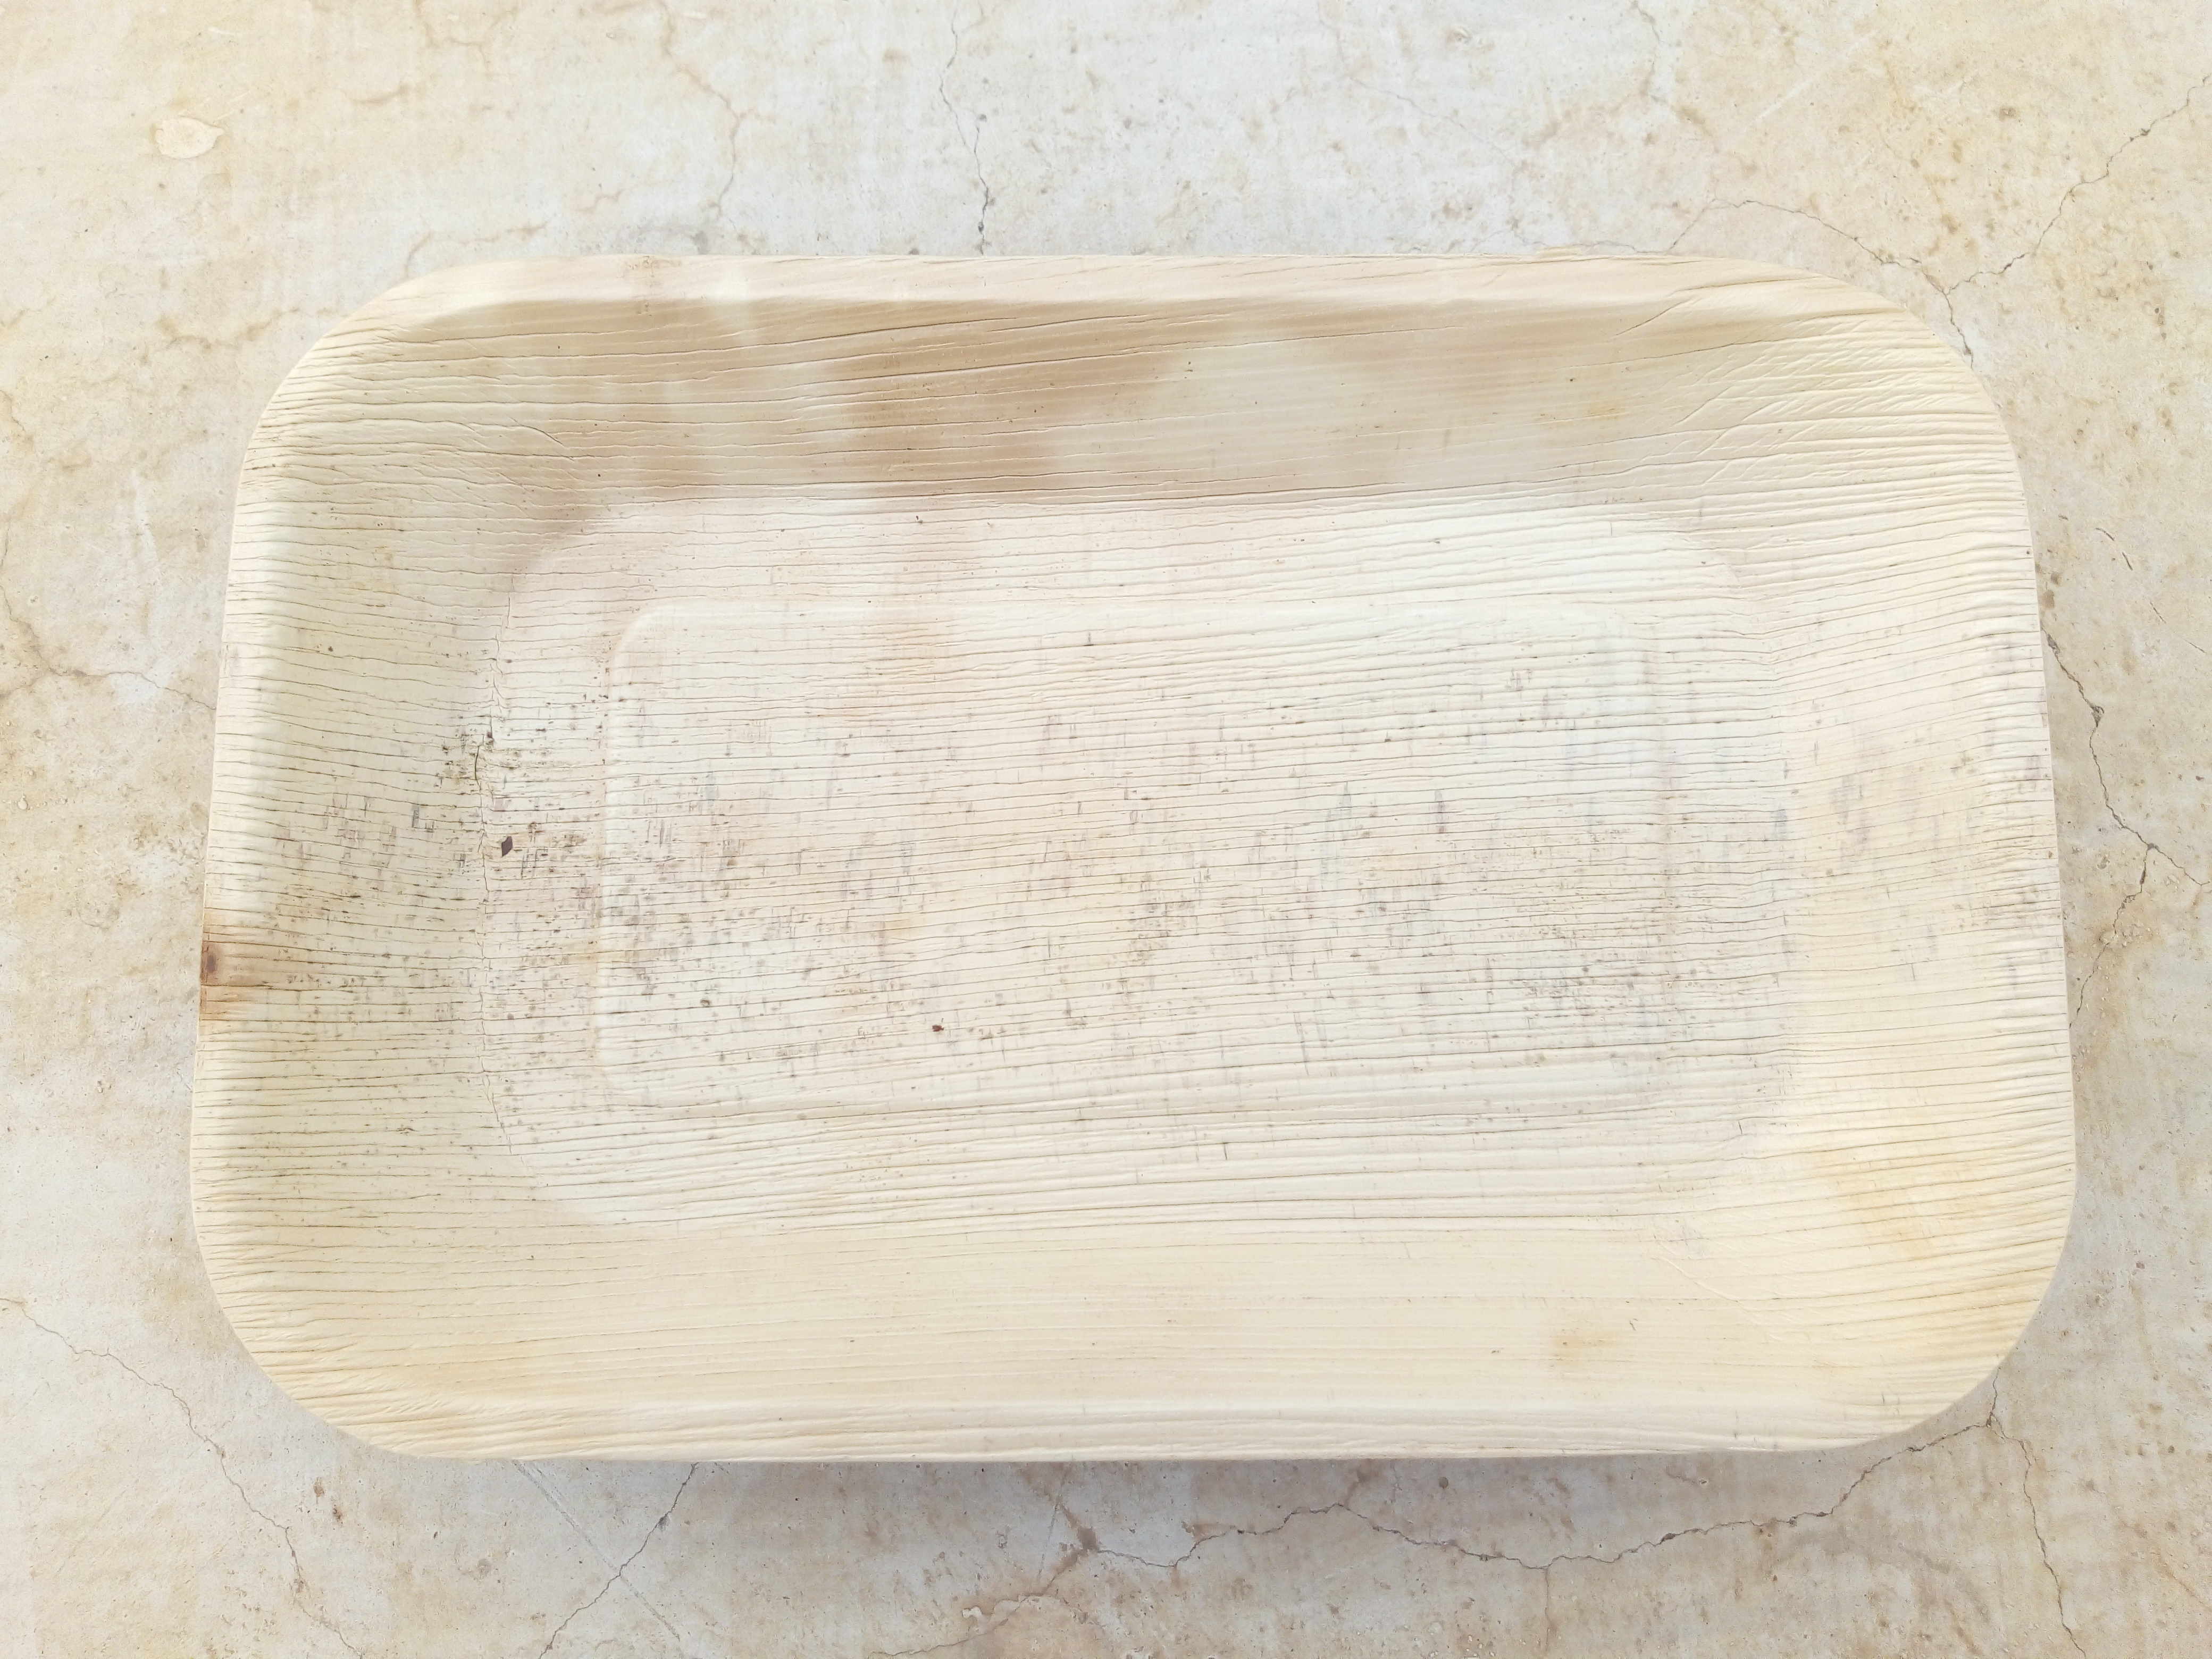areca plate: (202, 256, 2080, 1460)
